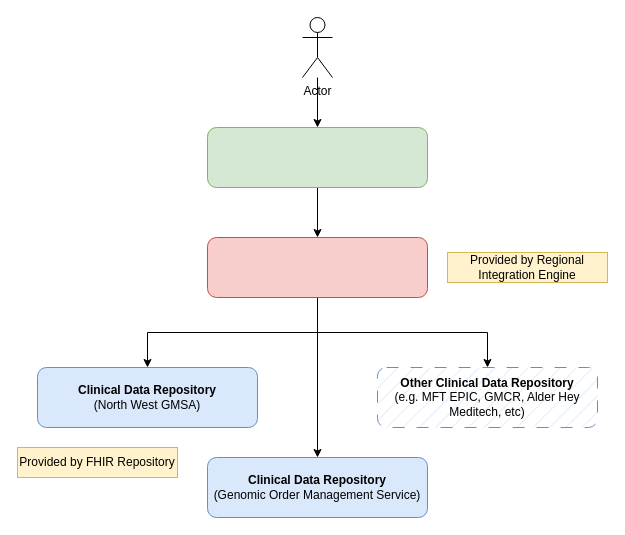
The diagram is 625 pixels wide and 535 high, and some of its shapes have lost their labels. The box of each missing label's shape, as (x1, y1, x2, y2) in pixels:
Clinical Portal (or other applications): (206, 126, 428, 188)
Health Information Exchange (HIE) (Federated Query): (206, 236, 428, 298)
